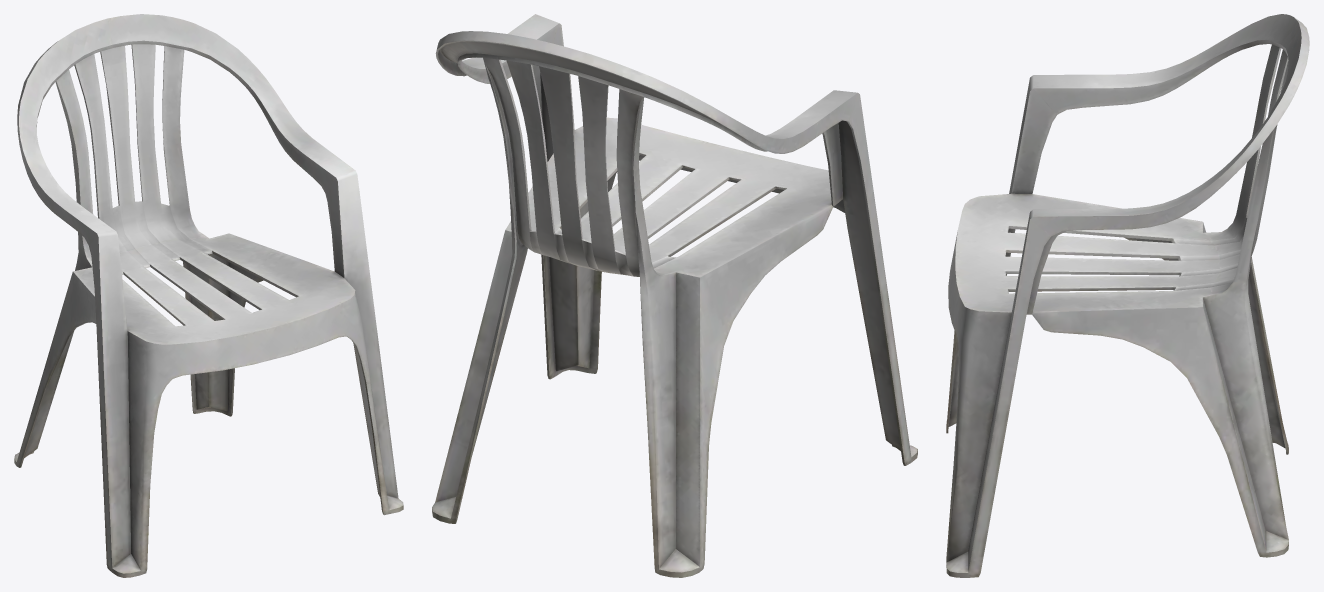
The model's file is plastic_monobloc_chair_01.glb.
The picture shows the model from 3 angles, left to right: view 1: azimuth 30°, elevation 25°; view 2: azimuth 150°, elevation 25°; view 3: azimuth 270°, elevation 25°; orthographic projection. The views are drawn at different scales.
Parts seen in each view (by area): view 1: plastic_monobloc_chair_01; view 2: plastic_monobloc_chair_01; view 3: plastic_monobloc_chair_01.
Part boxes in pixels (x1,y1,x2,y2): plastic_monobloc_chair_01: [14, 14, 403, 577]; plastic_monobloc_chair_01: [432, 14, 917, 577]; plastic_monobloc_chair_01: [946, 14, 1309, 577].
Bounding box in the file's own units: 0.6418 × 0.8798 × 0.6276.
1 material, 1 textured.
